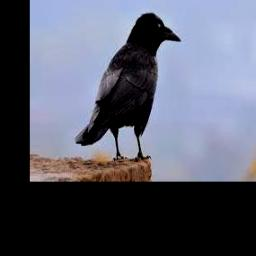Crow: (75, 12, 181, 160)
